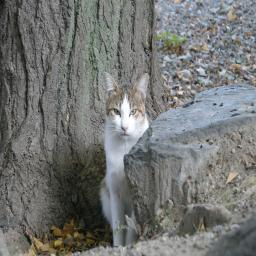catnose: (120, 123, 130, 134)
